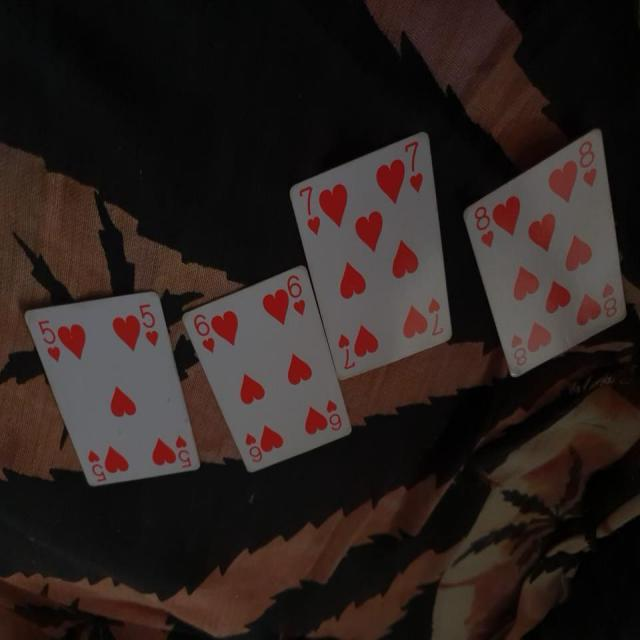5 of hearts: (21, 289, 202, 496)
6 of hearts: (183, 265, 360, 480)
7 of hearts: (284, 122, 459, 388)
8 of hearts: (453, 122, 628, 380)
